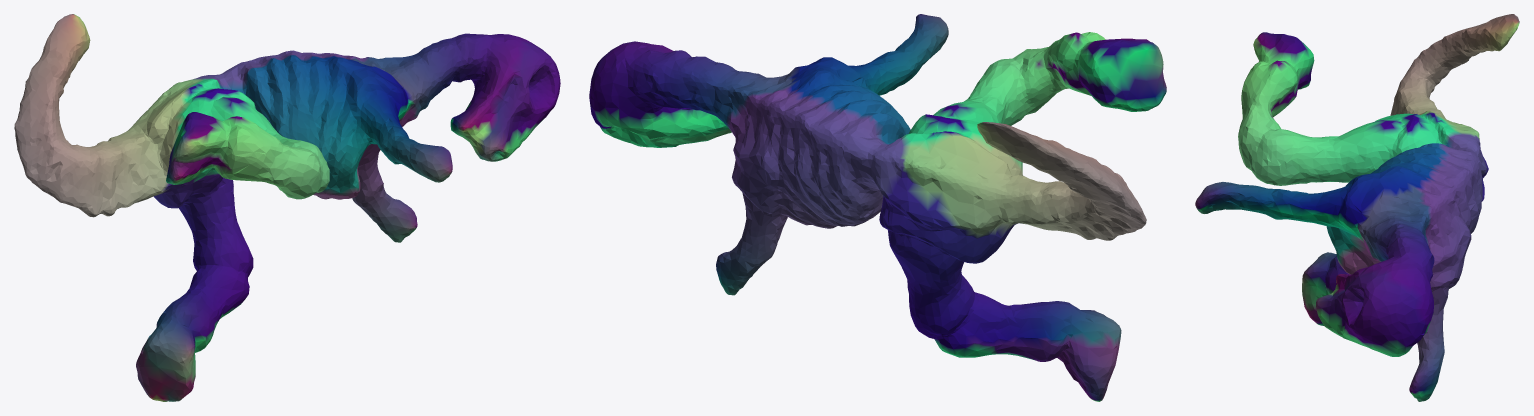
Rendered from dino_skel-14.off.obj.
3 renders of one model, left to right at view 1: azimuth 30°, elevation 25°; view 2: azimuth 150°, elevation 25°; view 3: azimuth 270°, elevation 25°, orthographic. The views are drawn at different scales.
Size of the model in its own units: 1.67 by 0.9979 by 0.9535.
